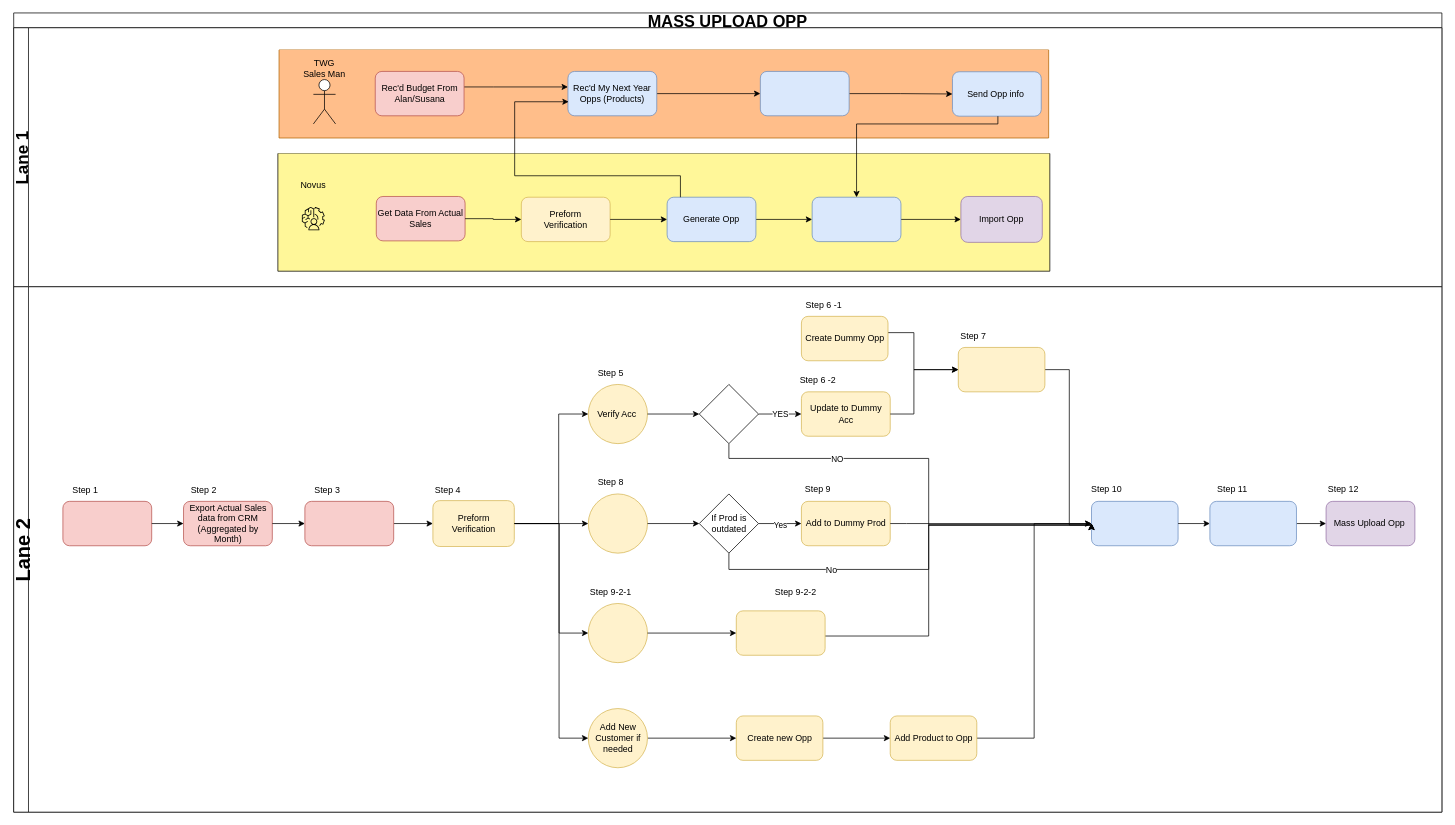
This 1455x825 diagram has some shape labels left out. Here are the shapes that lost their labels. From the top down, the box of each, then its label:
(760, 71, 849, 116): Update Opps / Create additional Opps
(811, 196, 901, 242): Update Opp
(958, 347, 1045, 392): Add the data to Dummy Opp
(699, 384, 758, 444): If acc is outdated
(62, 501, 152, 546): Review Actual Sales from pervious yr
(304, 501, 394, 546): Update quantity based on Budget
(588, 493, 648, 553): Verify Product
(1091, 501, 1178, 546): Generate External Key for further Import
(1209, 501, 1296, 546): Update each Opp's prod info
(588, 603, 648, 663): Add New Product if needed
(736, 610, 825, 655): Add new Prod to Opp
